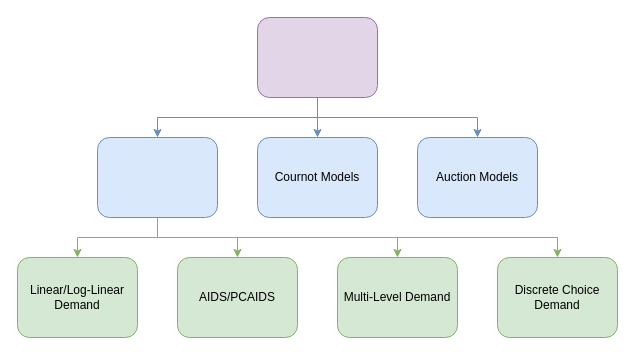
Some shapes in this 635 by 355 pixel diagram are drawn without their labels. The box of each missing label's shape, as (x1, y1, x2, y2) in pixels:
Bertrand Models: (96, 136, 218, 218)
Merger Simulation Models: (256, 16, 378, 98)
